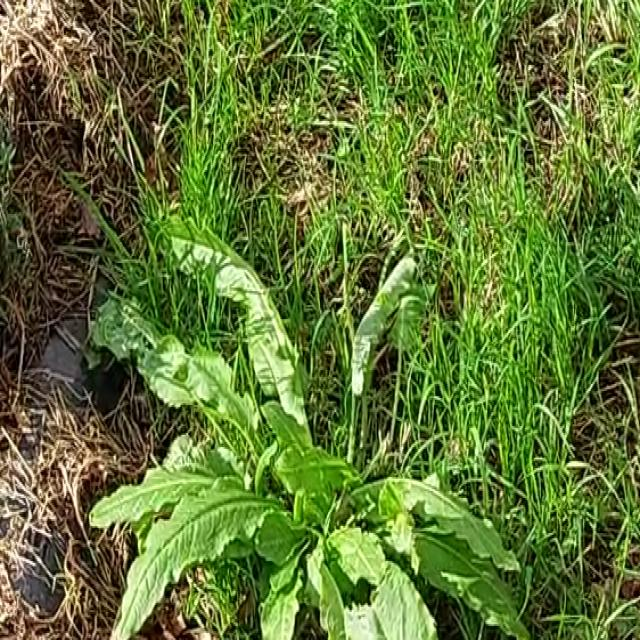organic waste: (83, 184, 518, 640)
